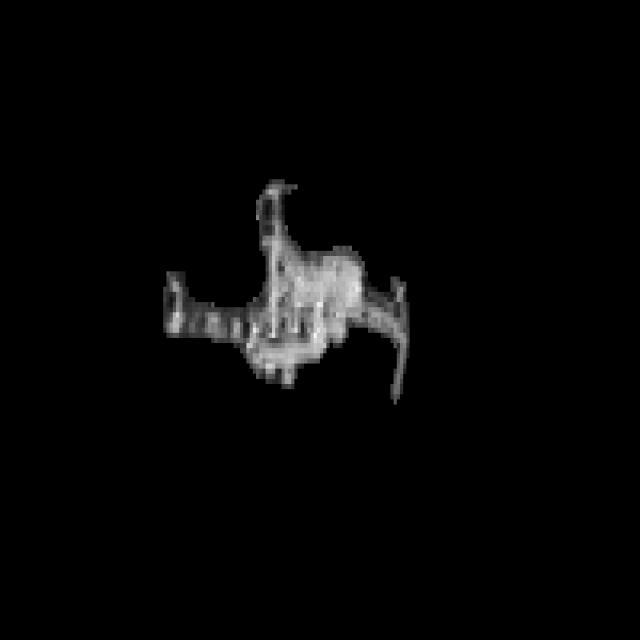drone: (160, 160, 412, 414)
